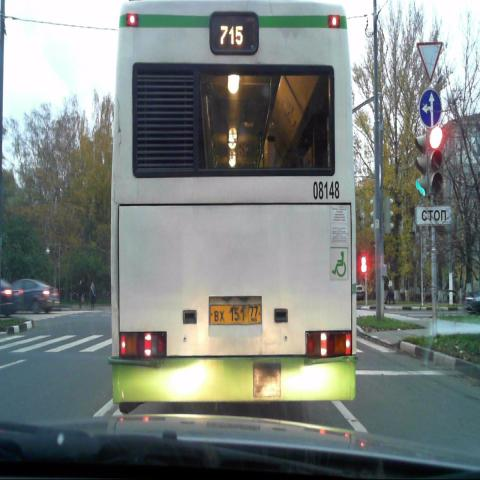4_1_5: (419, 90, 441, 126)
